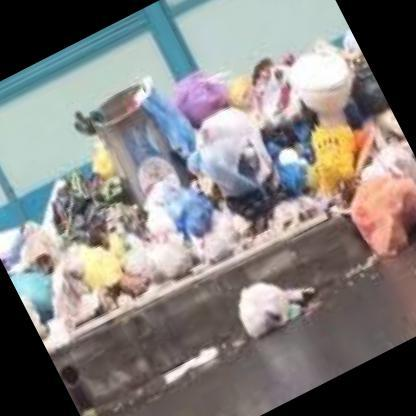Garbage: (104, 102, 414, 302), (13, 196, 148, 338), (188, 97, 292, 212), (120, 169, 226, 273), (106, 196, 204, 300), (218, 258, 314, 355), (334, 158, 415, 268), (236, 66, 312, 160), (58, 162, 130, 236), (169, 61, 237, 132), (147, 89, 208, 168)
